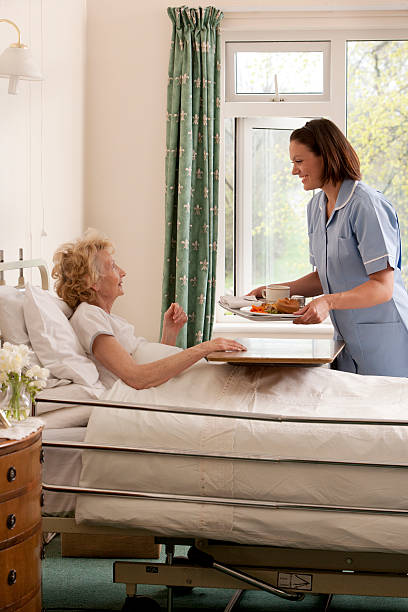bedrail: (29, 395, 395, 512)
bedside_table: (1, 415, 44, 612)
handle: (269, 74, 287, 103), (7, 509, 23, 533), (37, 495, 52, 510), (37, 547, 52, 562), (36, 450, 51, 465), (5, 465, 20, 480), (7, 568, 22, 580)
hospital_bed: (1, 248, 408, 612)
overbed_table: (205, 340, 349, 363)
patient: (54, 233, 408, 419)
staff: (235, 120, 408, 377)
